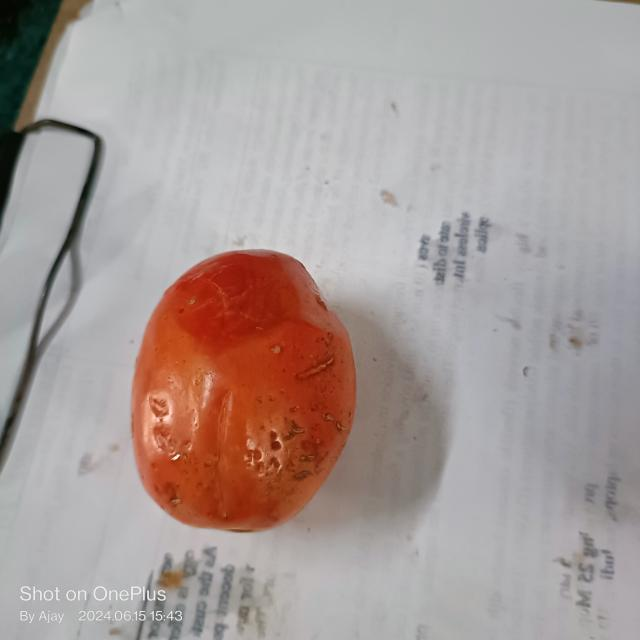Botrytis: (169, 259, 286, 347), (246, 422, 284, 475), (149, 393, 172, 460), (295, 347, 337, 380)
